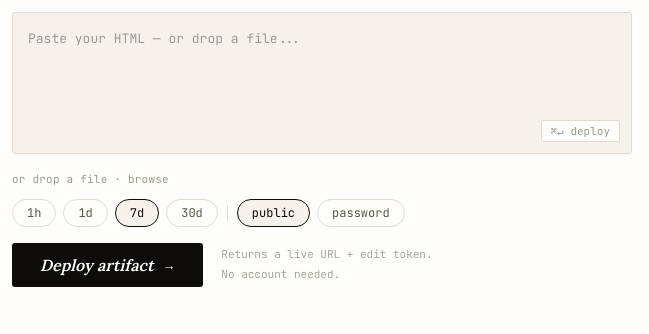
DeployPanel › blocks submit with no HTML
The image size is (649, 334).
Click the button "Deploy artifact →" at (108, 265), box [12,243,203,287]
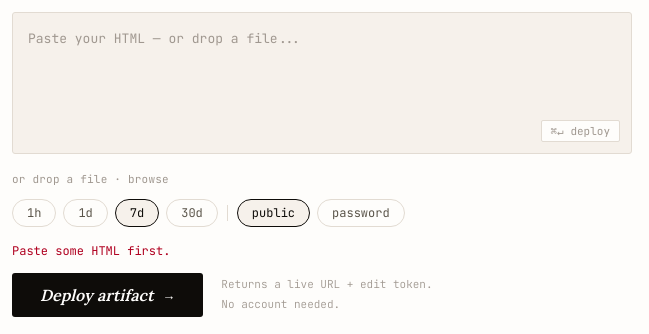
Check: the text "Paste some HTML first." is shown, box [12,243,170,259]
